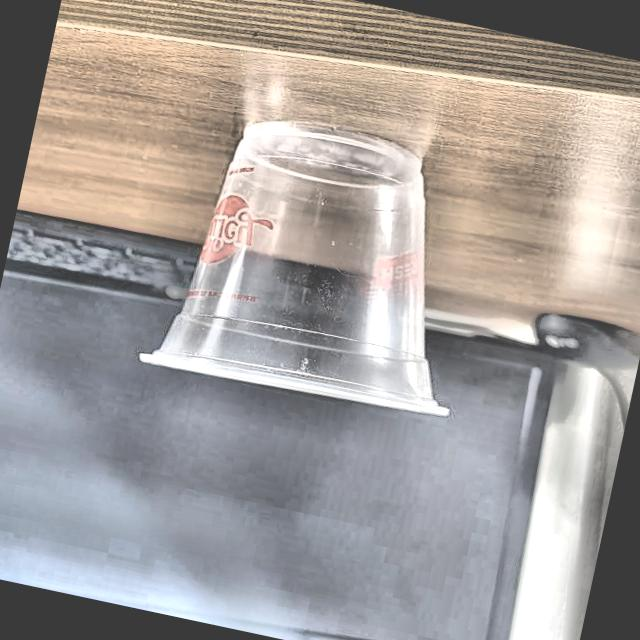plastic cup: (137, 100, 506, 430)
